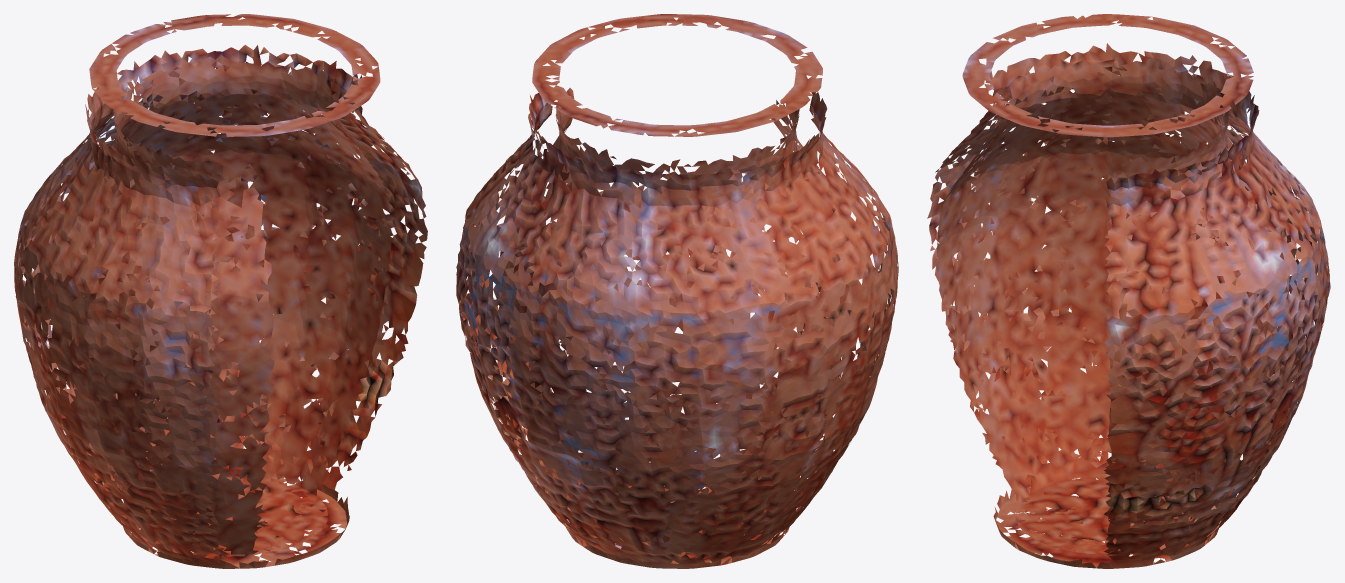
The model's file is vase_final400.obj.
3 views of the same model, side by side, from view 1: azimuth 30°, elevation 25°; view 2: azimuth 150°, elevation 25°; view 3: azimuth 270°, elevation 25° (orthographic).
Bounding box in the file's own units: 1.53 × 1.69 × 1.39.
